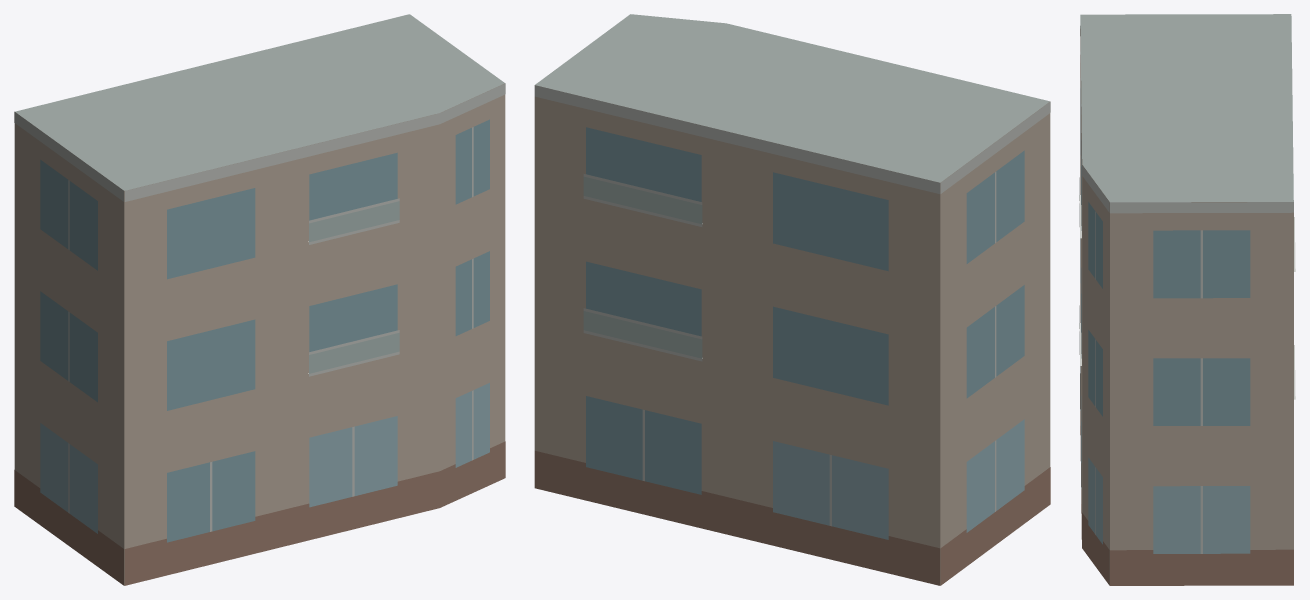
File: survey-upis-32655875.glb
The picture shows the model from 3 angles, left to right: view 1: azimuth 30°, elevation 25°; view 2: azimuth 150°, elevation 25°; view 3: azimuth 270°, elevation 25°; orthographic projection. The views are drawn at different scales.
Visible parts, largest first — view 1: survey-upis-32655875.tmp; view 2: survey-upis-32655875.tmp; view 3: survey-upis-32655875.tmp.
Part boxes in pixels (box(x1,y1,x2,y2)): survey-upis-32655875.tmp: box(14, 14, 505, 585); survey-upis-32655875.tmp: box(534, 14, 1050, 585); survey-upis-32655875.tmp: box(1079, 14, 1295, 585).
Size of the model in its own units: 9.01 by 8.55 by 4.37.
